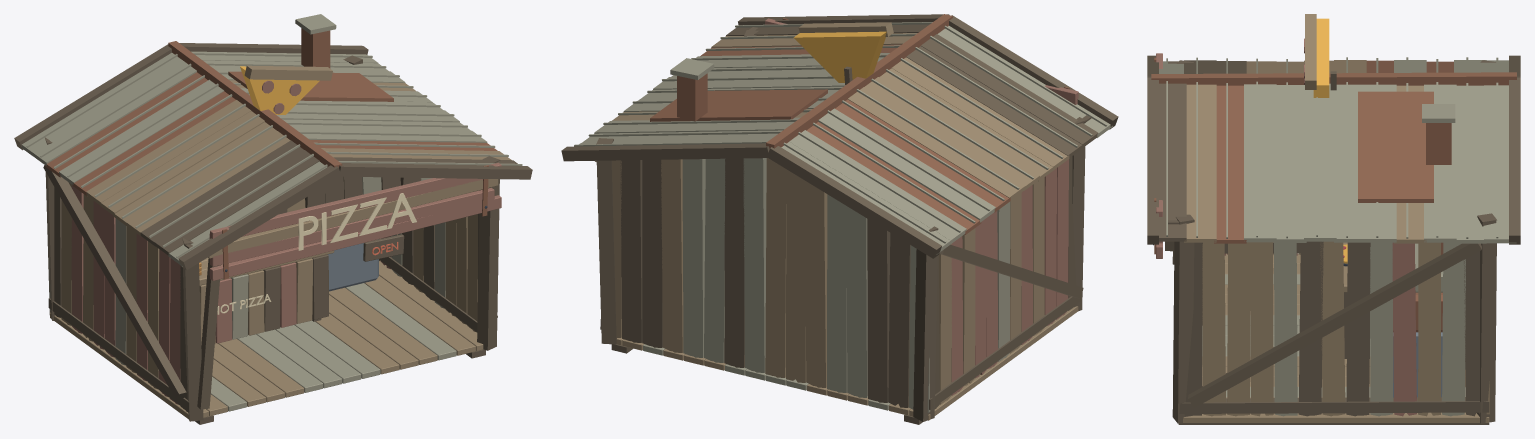
The model's file is bld_pizza_shop.glb.
3 views of the same model, side by side, from view 1: azimuth 30°, elevation 25°; view 2: azimuth 150°, elevation 25°; view 3: azimuth 270°, elevation 25° (orthographic). The views are drawn at different scales.
Parts seen in each view (by area): view 1: bld_pizza_shop, bld_pizza_shop__Side_external_brace_-1, bld_pizza_shop__Corner_post_1_-1, bld_pizza_shop__Roof_edge_left_-1, bld_pizza_shop__Roof_edge_right_-1, bld_pizza_shop__Corner_post_-1_-1, bld_pizza_shop__Roof_peak_cap, bld_pizza_shop__Roof_repair_patch, bld_pizza_shop__Pizza_letters, bld_pizza_shop__Pizza_front_brace, bld_pizza_shop__Oven_base, bld_pizza_shop__Pizza_slice_sign (+6 smaller); view 2: bld_pizza_shop, bld_pizza_shop__Roof_repair_patch, bld_pizza_shop__Pizza_slice_sign, bld_pizza_shop__Roof_peak_cap, bld_pizza_shop__Roof_edge_left_-1, bld_pizza_shop__Side_crossbeam_-1_0.31, bld_pizza_shop__Side_external_brace_-1, bld_pizza_shop__Corner_post_-1_-1, bld_pizza_shop__Roof_edge_right_-1, bld_pizza_shop__Roof_chimney, bld_pizza_shop__Pizza_crust, bld_pizza_shop__Chimney_cap; view 3: bld_pizza_shop, bld_pizza_shop__Roof_repair_patch, bld_pizza_shop__Roof_peak_cap, bld_pizza_shop__Side_crossbeam_1_0.31, bld_pizza_shop__Corner_post_1_-1, bld_pizza_shop__Roof_edge_right_-1, bld_pizza_shop__Pizza_slice_sign, bld_pizza_shop__Roof_chimney, bld_pizza_shop__Pizza_crust, bld_pizza_shop__Chimney_cap, bld_pizza_shop__Floor_runner_2.23, bld_pizza_shop__Oven_base.
Boxes of the visible parts, left/top/right/bottom form: bld_pizza_shop: left=14, top=43, right=522, bottom=419; bld_pizza_shop__Side_external_brace_-1: left=43, top=165, right=186, bottom=400; bld_pizza_shop__Corner_post_1_-1: left=477, top=156, right=500, bottom=350; bld_pizza_shop__Roof_edge_left_-1: left=178, top=165, right=340, bottom=270; bld_pizza_shop__Roof_edge_right_-1: left=339, top=163, right=532, bottom=179; bld_pizza_shop__Corner_post_-1_-1: left=182, top=238, right=203, bottom=421; bld_pizza_shop__Roof_peak_cap: left=168, top=41, right=342, bottom=167; bld_pizza_shop__Roof_repair_patch: left=228, top=71, right=393, bottom=101; bld_pizza_shop__Pizza_letters: left=298, top=193, right=416, bottom=250; bld_pizza_shop__Pizza_front_brace: left=197, top=258, right=220, bottom=409; bld_pizza_shop__Oven_base: left=328, top=243, right=378, bottom=291; bld_pizza_shop__Pizza_slice_sign: left=240, top=66, right=319, bottom=114; bld_pizza_shop: left=561, top=18, right=1112, bottom=421; bld_pizza_shop__Roof_repair_patch: left=650, top=89, right=827, bottom=121; bld_pizza_shop__Pizza_slice_sign: left=793, top=31, right=886, bottom=82; bld_pizza_shop__Roof_peak_cap: left=766, top=14, right=952, bottom=148; bld_pizza_shop__Roof_edge_left_-1: left=949, top=15, right=1118, bottom=129; bld_pizza_shop__Side_crossbeam_-1_0.31: left=929, top=296, right=1081, bottom=409; bld_pizza_shop__Side_external_brace_-1: left=939, top=244, right=1083, bottom=298; bld_pizza_shop__Corner_post_-1_-1: left=1072, top=117, right=1085, bottom=311; bld_pizza_shop__Roof_edge_right_-1: left=738, top=14, right=949, bottom=25; bld_pizza_shop__Roof_chimney: left=677, top=73, right=707, bottom=121; bld_pizza_shop__Pizza_crust: left=798, top=22, right=893, bottom=36; bld_pizza_shop__Chimney_cap: left=670, top=58, right=714, bottom=79; bld_pizza_shop: left=1154, top=38, right=1520, bottom=423; bld_pizza_shop__Roof_repair_patch: left=1358, top=91, right=1433, bottom=202; bld_pizza_shop__Roof_peak_cap: left=1151, top=72, right=1516, bottom=85; bld_pizza_shop__Side_crossbeam_1_0.31: left=1179, top=397, right=1489, bottom=413; bld_pizza_shop__Corner_post_1_-1: left=1172, top=214, right=1194, bottom=423; bld_pizza_shop__Roof_edge_right_-1: left=1147, top=77, right=1158, bottom=244; bld_pizza_shop__Pizza_slice_sign: left=1313, top=18, right=1329, bottom=97; bld_pizza_shop__Roof_chimney: left=1426, top=123, right=1451, bottom=164; bld_pizza_shop__Pizza_crust: left=1305, top=14, right=1316, bottom=89; bld_pizza_shop__Chimney_cap: left=1422, top=104, right=1455, bottom=122; bld_pizza_shop__Floor_runner_2.23: left=1178, top=423, right=1489, bottom=424; bld_pizza_shop__Oven_base: left=1393, top=332, right=1442, bottom=397.
Bounding box in the file's own units: 5.72 × 4.49 × 4.81.
